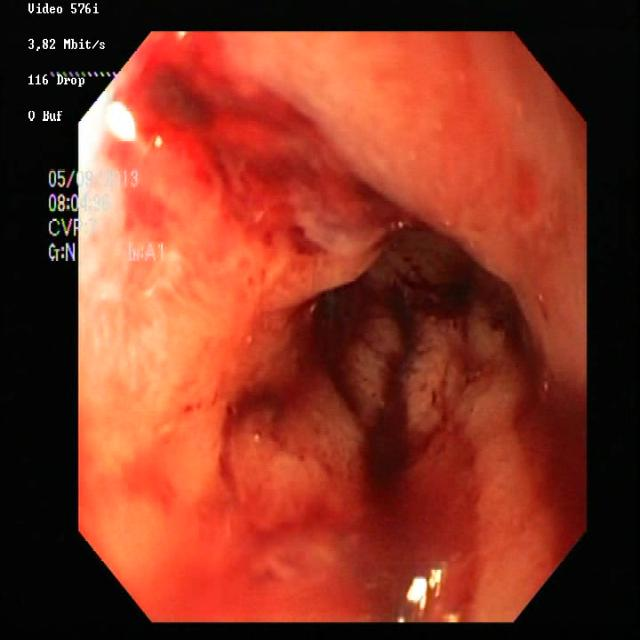ulcerative-colities: (75, 34, 592, 623)
